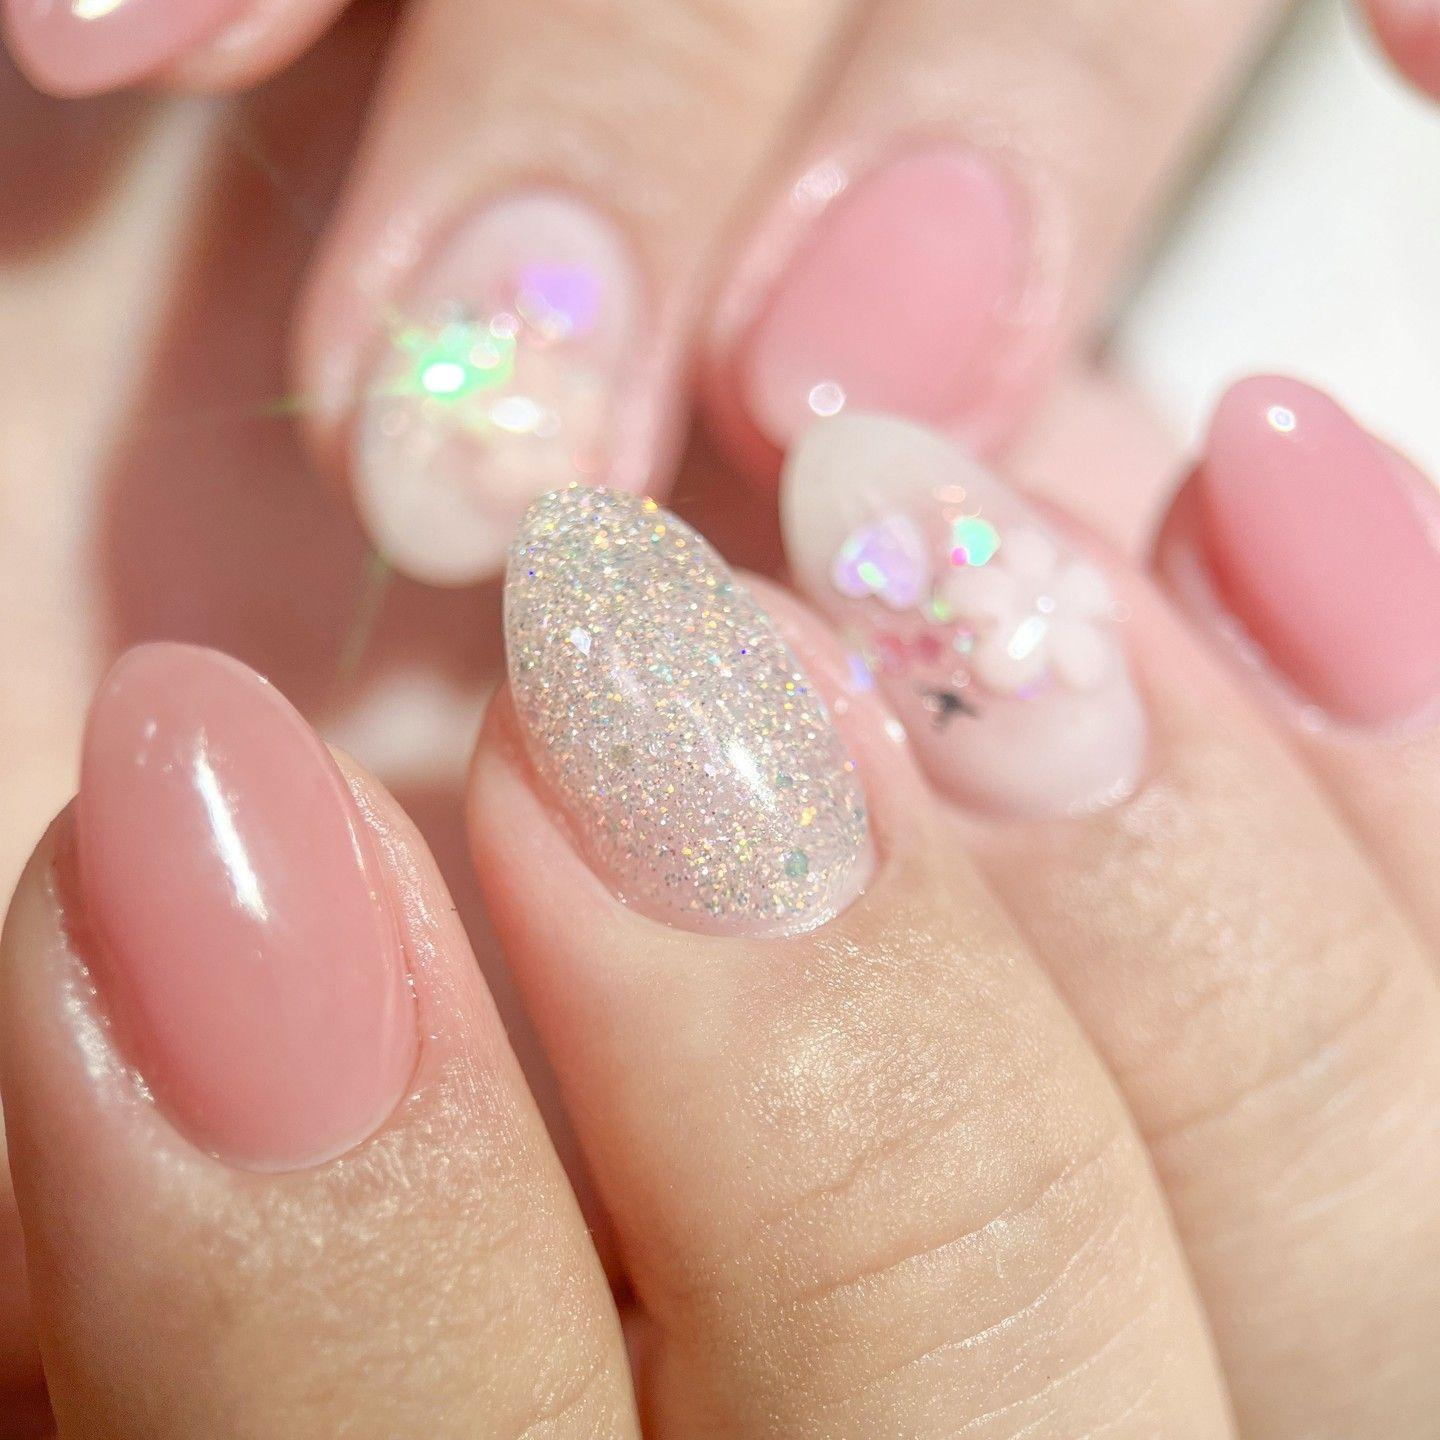nail: (69, 637, 423, 1174), (498, 480, 877, 939), (777, 407, 1149, 822), (708, 128, 1065, 485), (1158, 369, 1437, 742), (1, 0, 352, 100)
